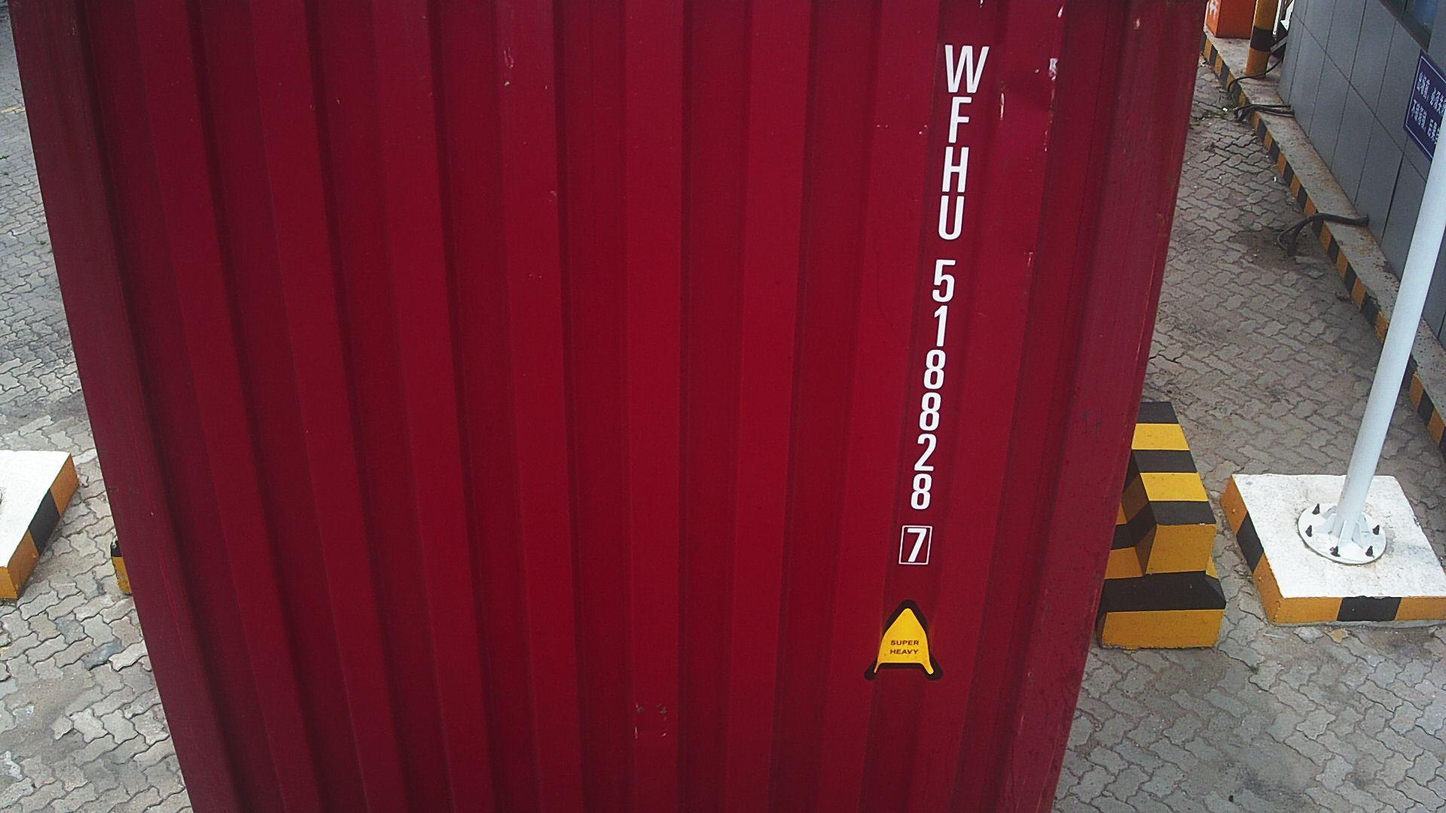container-numbers: (893, 40, 992, 570)
